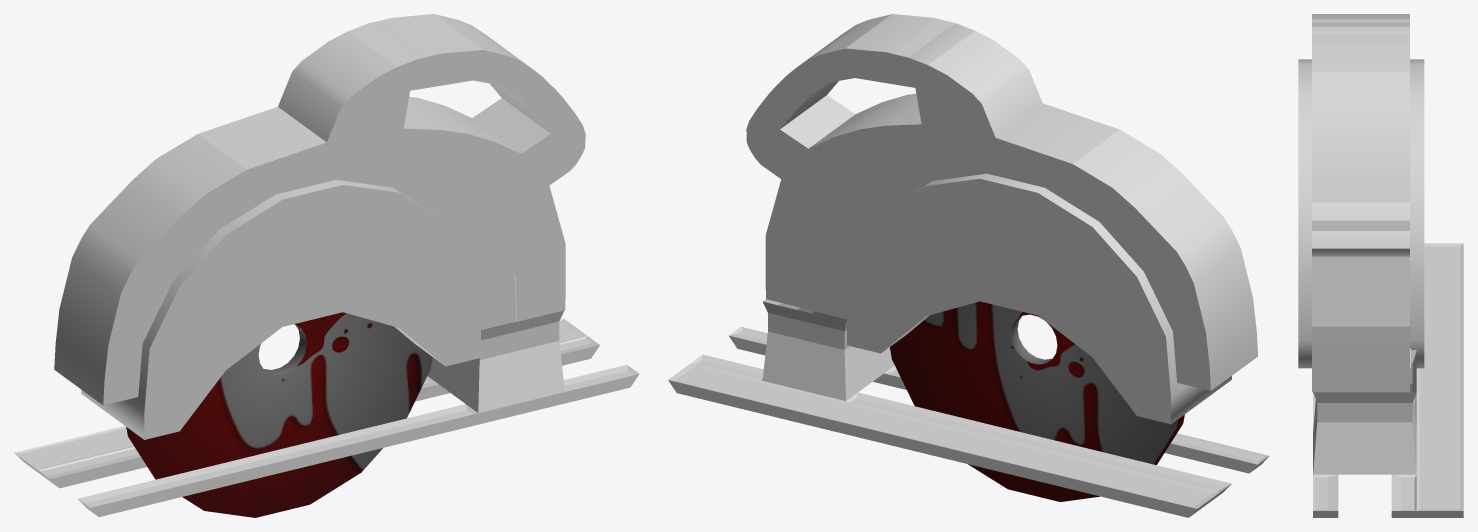
File: CircularSaw.fbx
3 renders of one model, left to right at view 1: azimuth 30°, elevation 25°; view 2: azimuth 150°, elevation 25°; view 3: azimuth 270°, elevation 25°, orthographic. The views are drawn at different scales.
Visible parts, largest first — view 1: Jigsaw, Cylinder016, Cylinder015, JigSaw; view 2: Jigsaw, Cylinder016, Cylinder015, JigSaw; view 3: Jigsaw, Cylinder016.
Part boxes in pixels (x1,y1,x2,y2): Jigsaw: [14, 14, 639, 516]; Cylinder016: [81, 180, 480, 439]; Cylinder015: [126, 312, 432, 517]; JigSaw: [419, 197, 516, 329]; Jigsaw: [668, 14, 1269, 517]; Cylinder016: [847, 173, 1231, 424]; Cylinder015: [890, 301, 1184, 501]; JigSaw: [812, 191, 905, 319]; Jigsaw: [1312, 14, 1463, 517]; Cylinder016: [1298, 59, 1424, 368].
Bounding box in the file's own units: 2.03 × 0.5316 × 1.56.
Materials: 1 (1 with a texture image).
